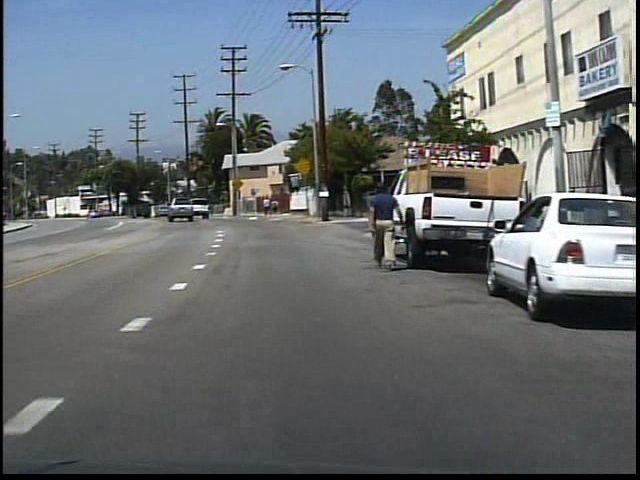person: (361, 178, 405, 273), (262, 194, 272, 217), (271, 197, 281, 216)
